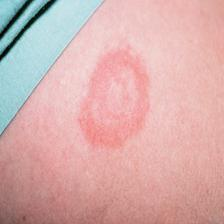Tick: (70, 38, 165, 159)
